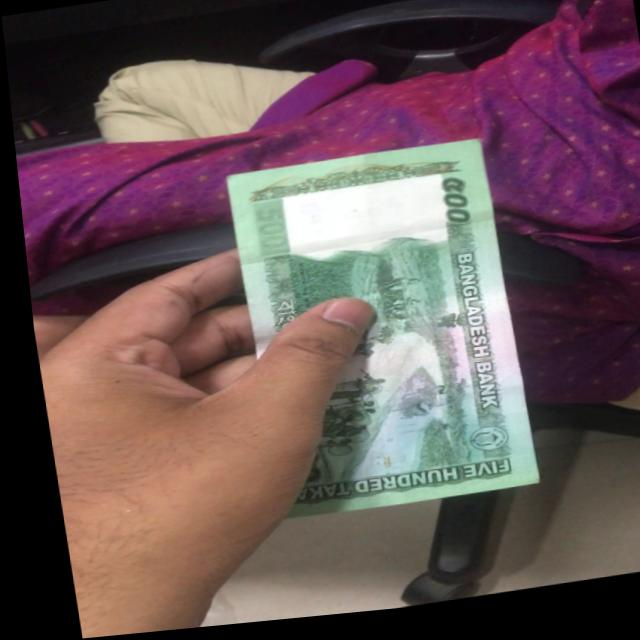Taka: (218, 144, 530, 522)
